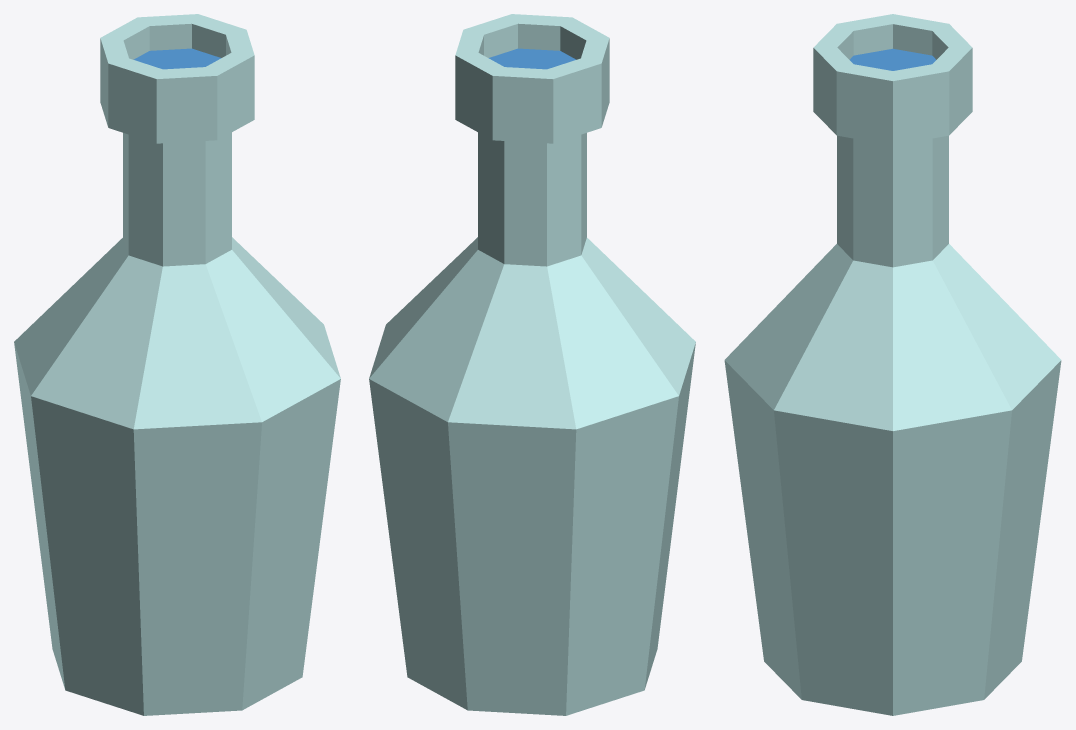
Rendered from Bottle_01.fbx.
3 renders of one model, left to right at view 1: azimuth 30°, elevation 25°; view 2: azimuth 150°, elevation 25°; view 3: azimuth 270°, elevation 25°, orthographic.
Visible parts, largest first — view 1: Bottle_01; view 2: Bottle_01; view 3: Bottle_01.
Boxes of the visible parts, x1,y1,x2,y2 form: Bottle_01: (14,14,340,715); Bottle_01: (369,14,695,715); Bottle_01: (724,14,1061,715).
Size of the model in its own units: 53.27 by 107 by 53.27.
